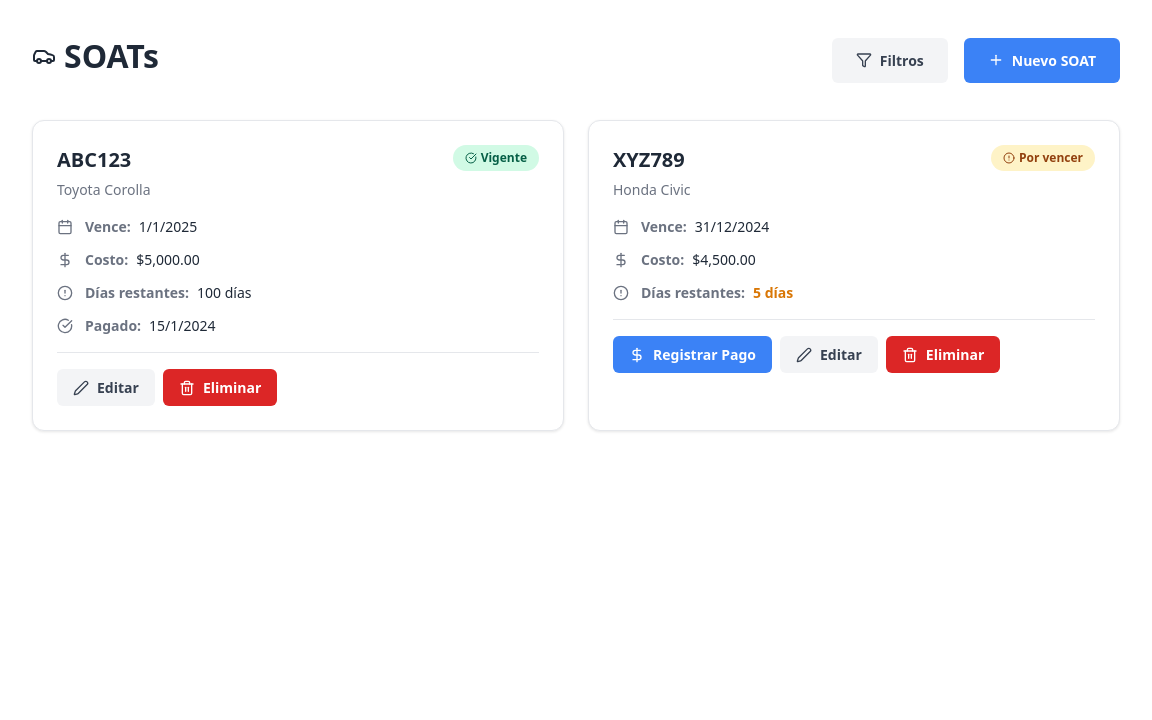
Test: SOATs › debe abrir modal para registrar pago
This screenshot has width=1152, height=720.
Expected: the heading "XYZ789" is shown, [613,146,685,173]
Click the button "Registrar Pago" at (692, 354), box [613,336,772,373]
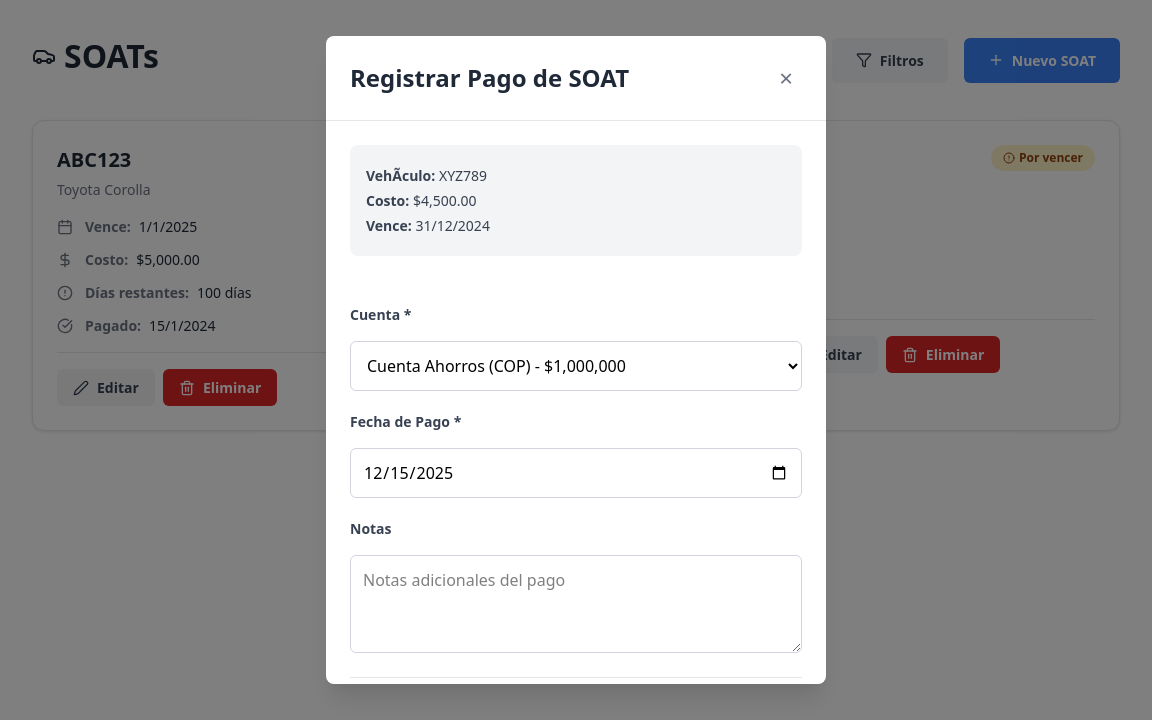
Expected: the heading "Registrar Pago de SOAT" is shown, [350,60,629,96]
Expected: the dropdown labelled "Cuenta *" is shown, [350,341,802,391]
